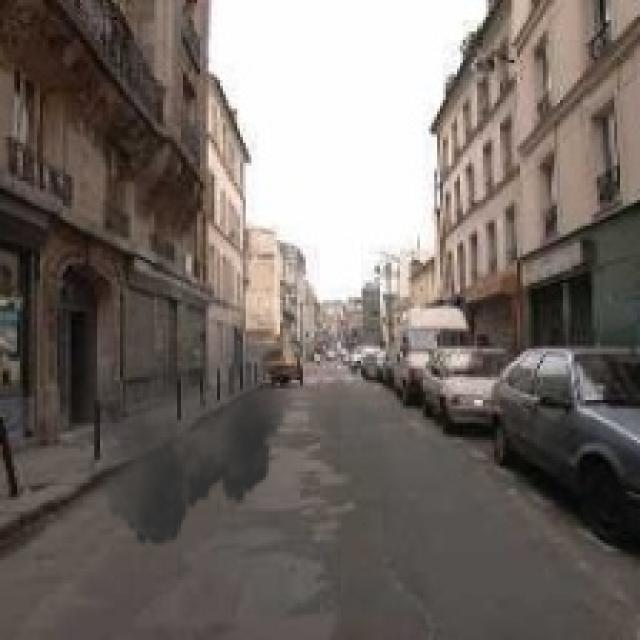Smoke: (55, 292, 292, 557)
